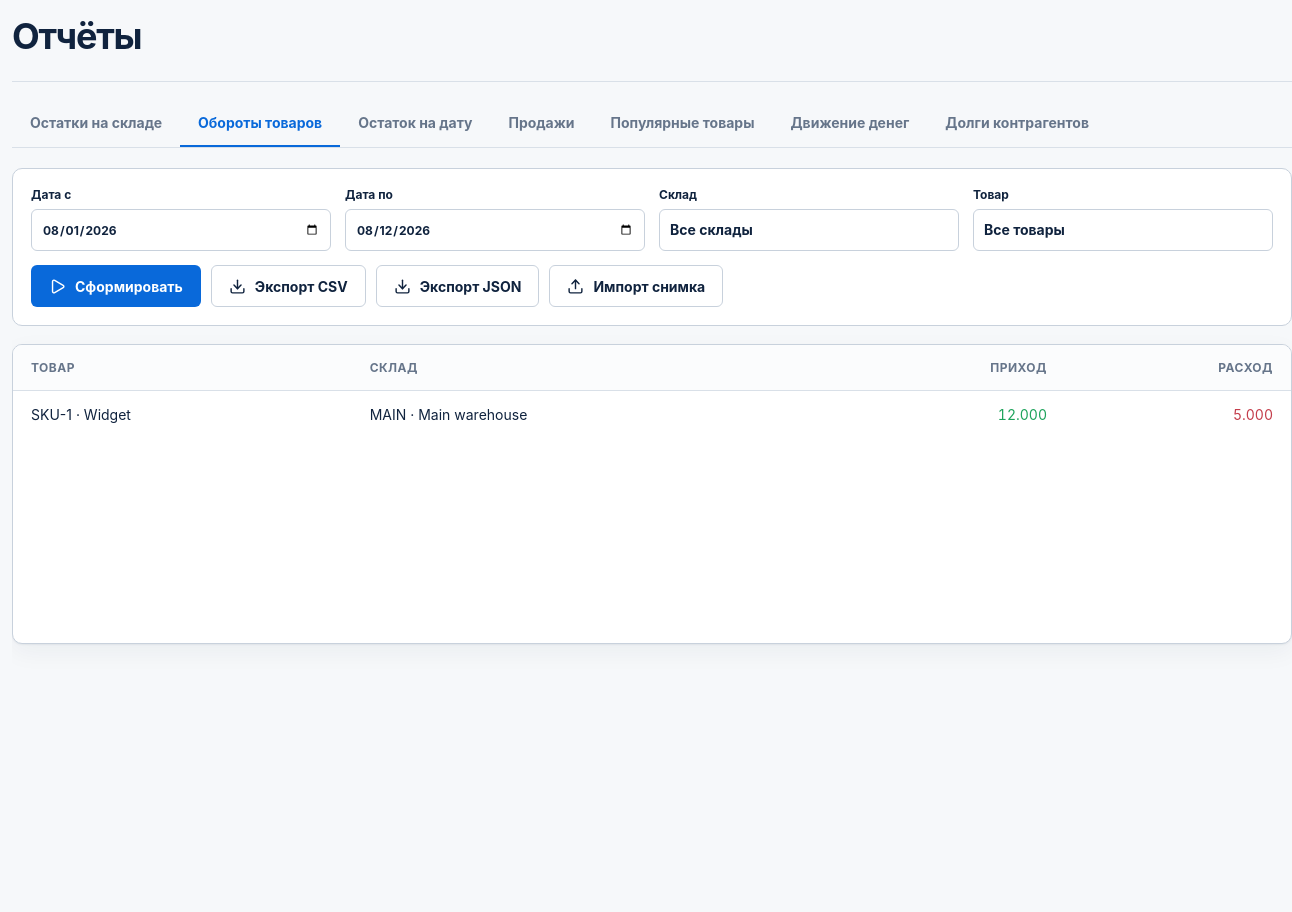
it: reports workspace › validates date ranges before sending a report request
The image size is (1292, 912).
Expected: the cell "SKU-1 · Widget" is shown, [13,391,352,438]
Type "2026-06-20" into the date field labelled "Дата с". click: (181, 230)
box: [31,209,331,251]
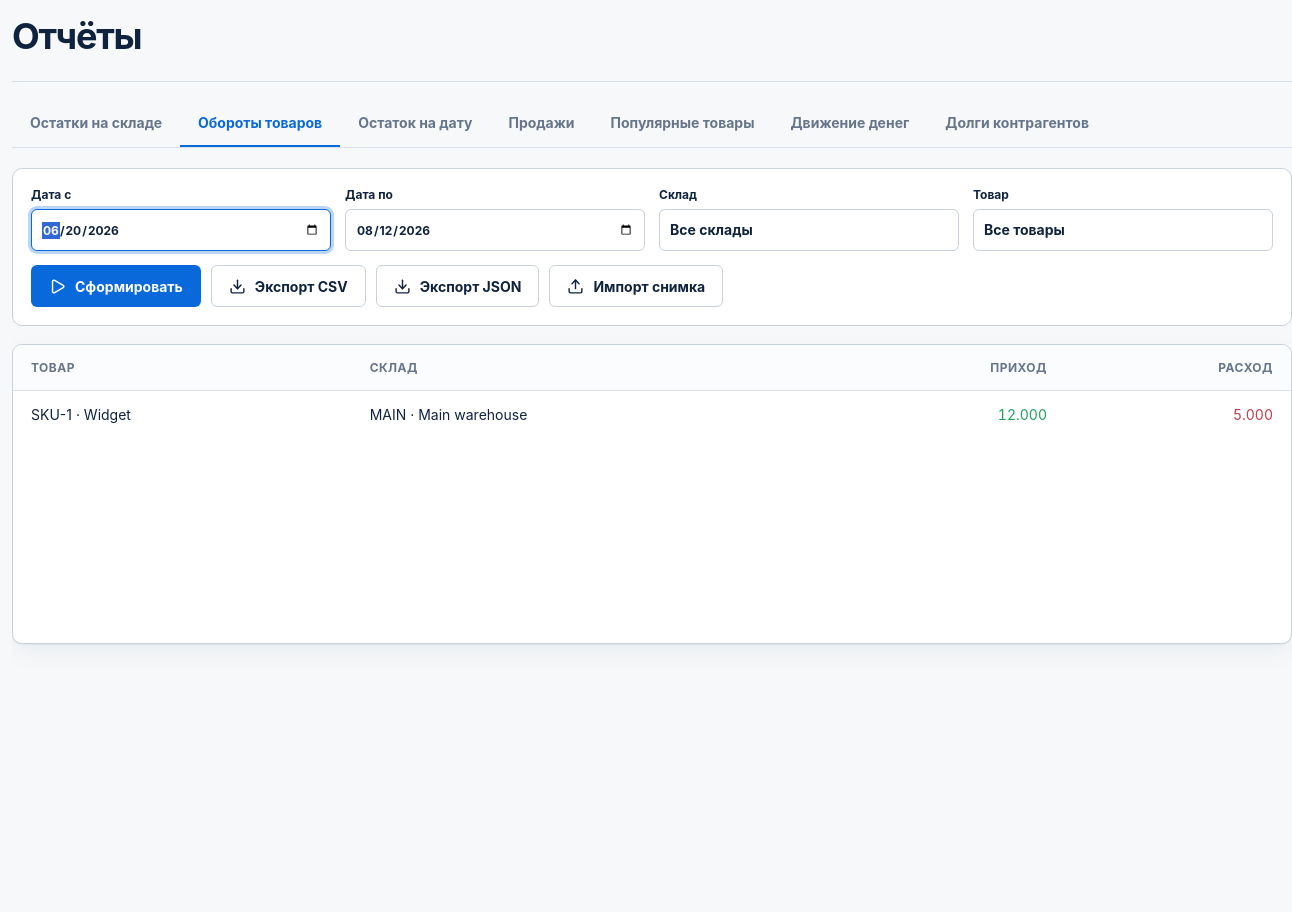
Type "2026-06-01" into the date field labelled "Дата по". click: (495, 230)
box: [345,209,645,251]
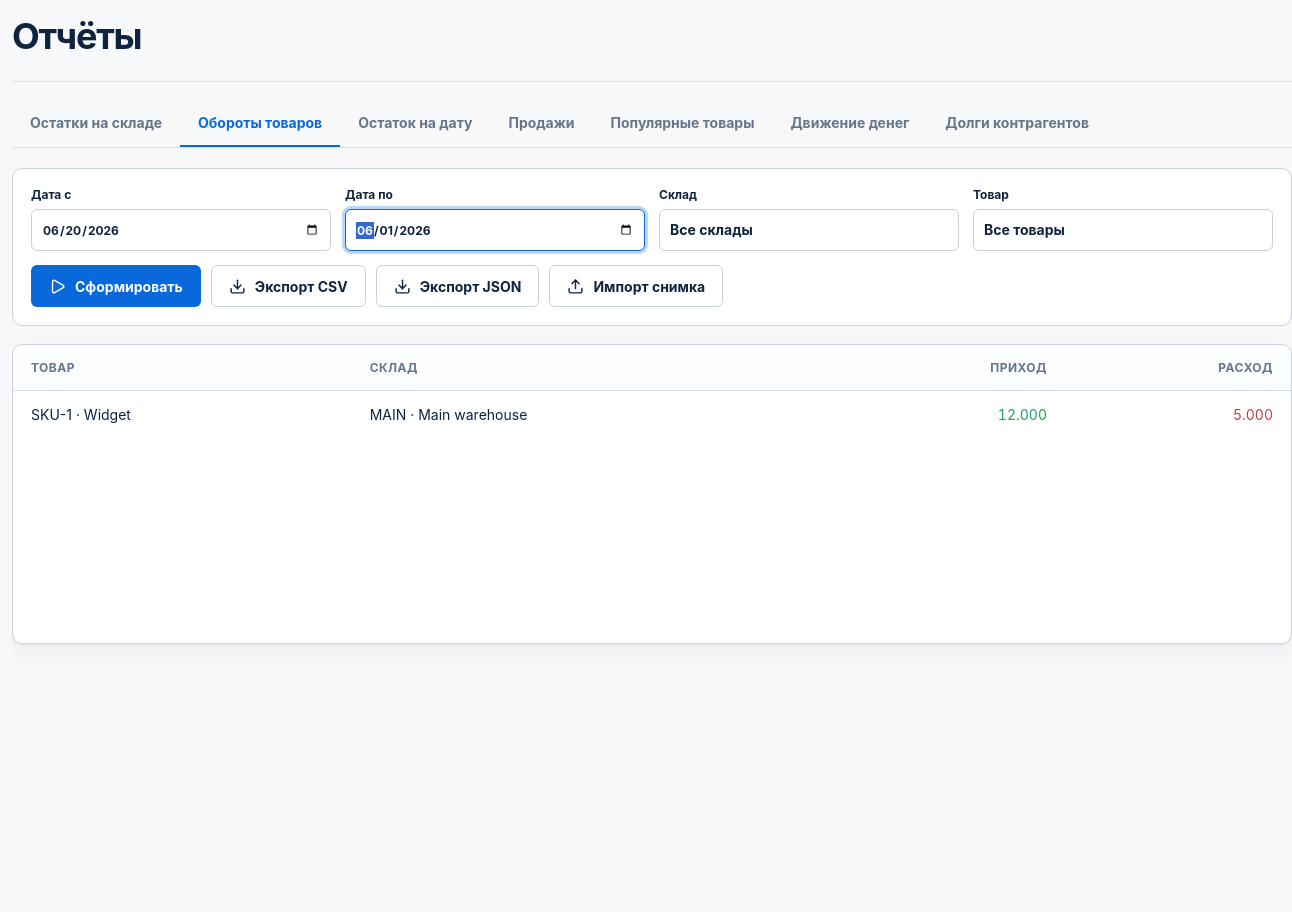
Click the button "Сформировать". click: (116, 286)
box: [31,265,201,307]
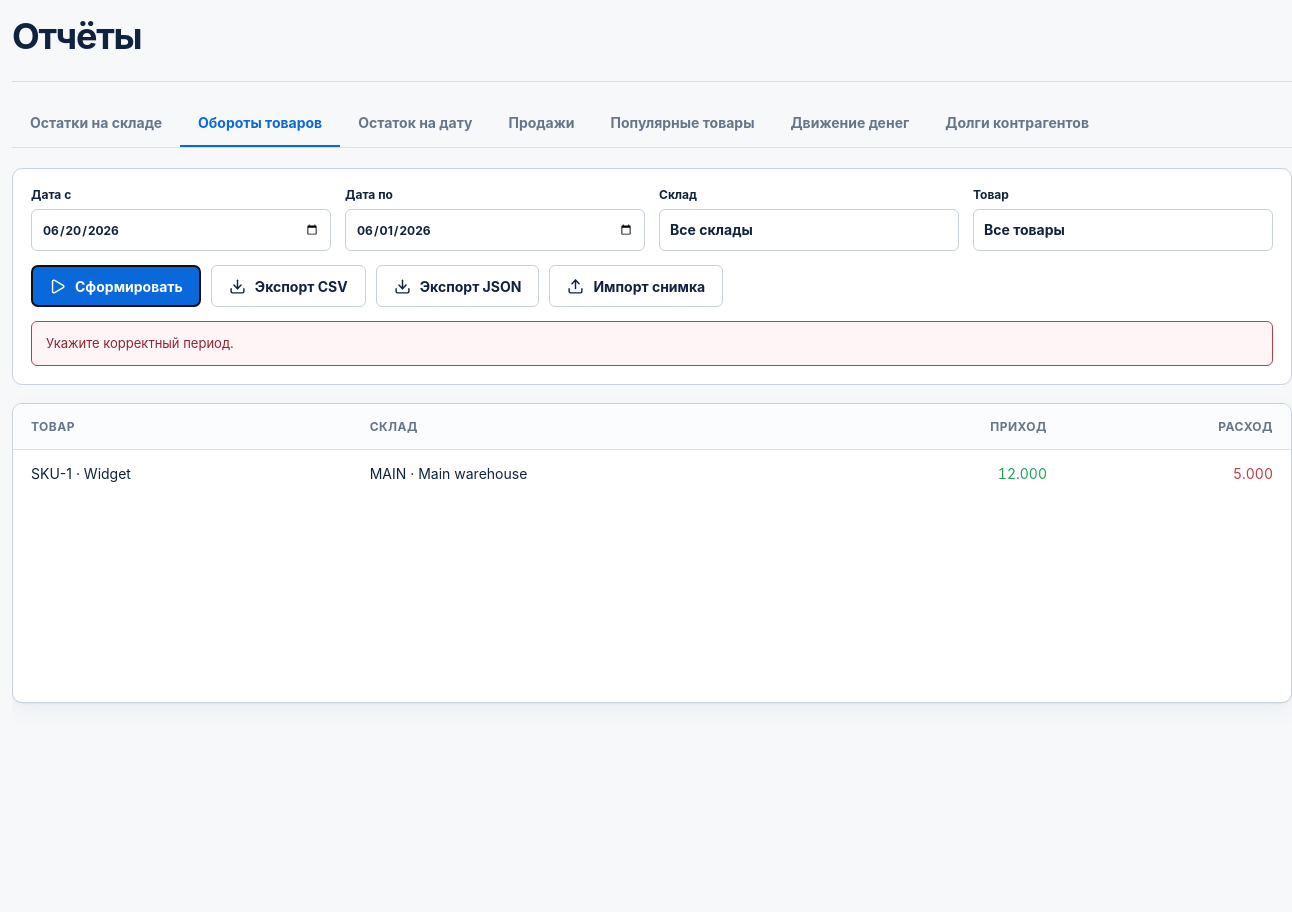
Expected: the message reads "Укажите корректный период.", [46,335,234,351]
